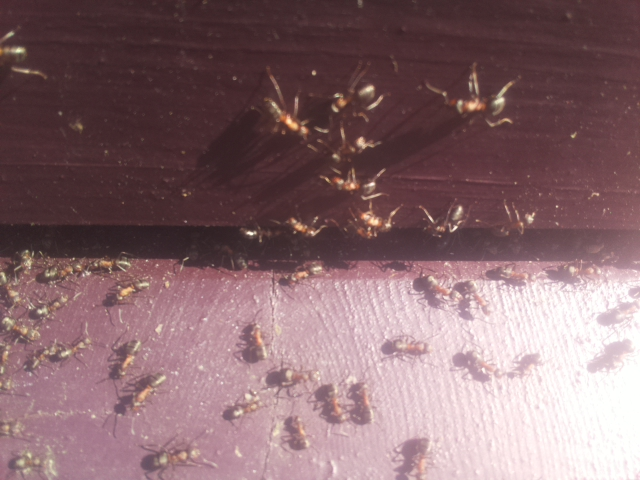ant: (254, 82, 316, 150), (436, 79, 508, 123), (416, 196, 474, 247), (323, 73, 383, 120), (134, 442, 204, 479), (124, 366, 174, 415), (346, 204, 401, 242), (216, 388, 271, 426), (393, 432, 436, 480), (100, 273, 156, 309), (448, 348, 500, 384), (0, 35, 40, 81), (584, 336, 637, 370), (108, 333, 144, 383), (315, 169, 377, 198), (270, 260, 328, 291), (374, 333, 438, 361), (27, 287, 72, 326), (261, 366, 324, 393), (594, 294, 640, 329), (347, 375, 375, 431), (491, 208, 540, 240), (0, 313, 42, 345), (502, 351, 547, 380), (281, 412, 311, 455), (320, 379, 346, 427), (486, 260, 532, 287), (464, 275, 489, 321), (420, 272, 454, 302), (248, 321, 270, 362), (283, 218, 328, 237), (82, 256, 133, 272)
